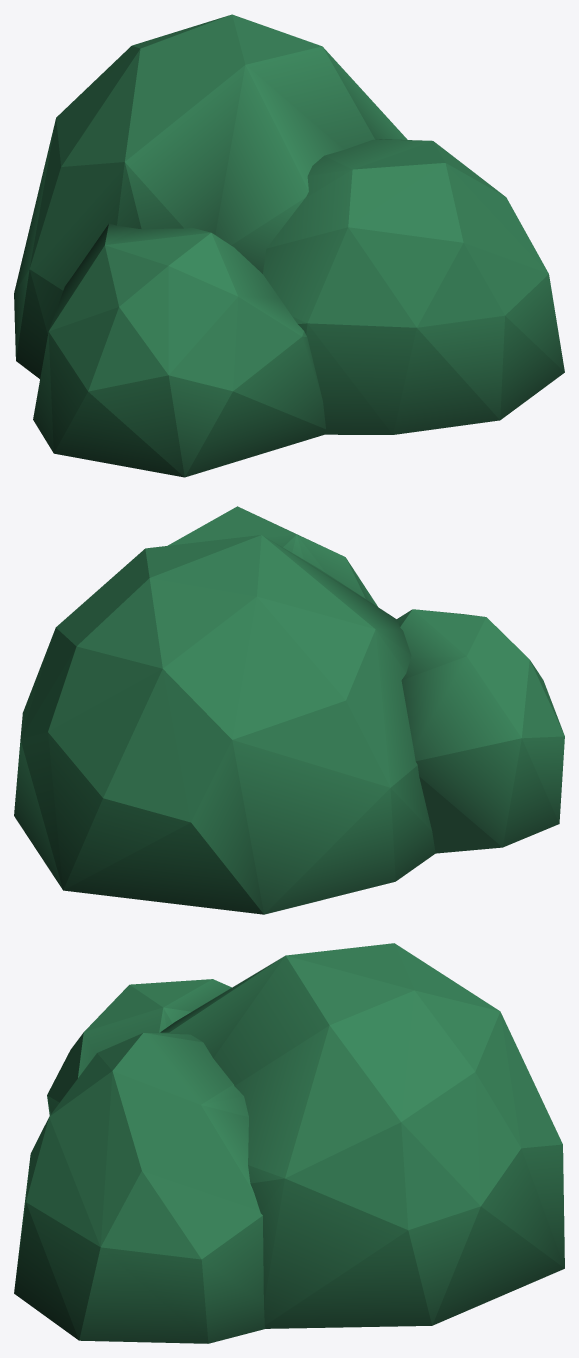
Rendered from Bush2.fbx.
The picture shows the model from 3 angles, top to bottom: view 1: azimuth 30°, elevation 25°; view 2: azimuth 150°, elevation 25°; view 3: azimuth 270°, elevation 25°; orthographic projection. The views are drawn at different scales.
Parts seen in each view (by area): view 1: Bush2; view 2: Bush2; view 3: Bush2.
Part boxes in pixels (box(x1,y1,x2,y2)): Bush2: box(14, 14, 564, 477); Bush2: box(14, 506, 564, 914); Bush2: box(14, 943, 564, 1343).
Size of the model in its own units: 1.6 by 1.63 by 0.9182.
